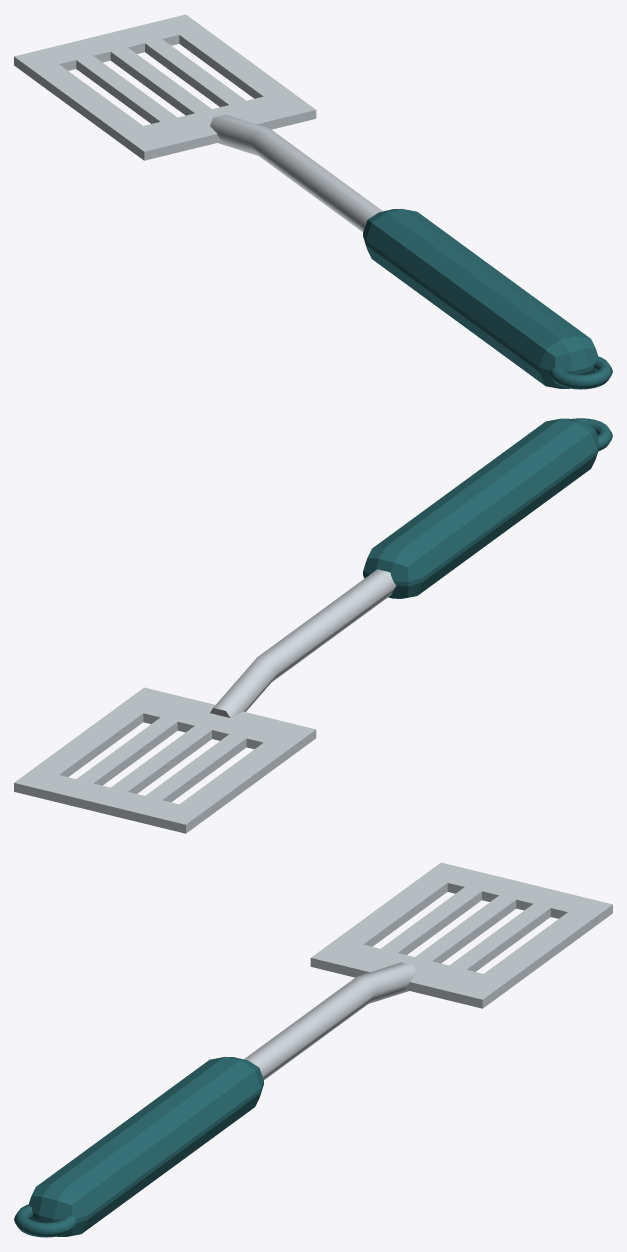
File: utensil_slotted_turner.glb
3 views of the same model, one above another, from view 1: azimuth 30°, elevation 25°; view 2: azimuth 150°, elevation 25°; view 3: azimuth 330°, elevation 25° (orthographic).
Visible parts, largest first — view 1: Slotted turner blade, Turner molded grip, Turner bent metal neck, Turner hanging loop; view 2: Slotted turner blade, Turner molded grip, Turner bent metal neck; view 3: Slotted turner blade, Turner molded grip, Turner bent metal neck, Turner hanging loop.
Boxes of the visible parts, x1,y1,x2,y2 form: Slotted turner blade: (14, 14, 316, 160); Turner molded grip: (363, 209, 598, 388); Turner bent metal neck: (210, 114, 382, 231); Turner hanging loop: (549, 356, 612, 389); Slotted turner blade: (14, 687, 316, 833); Turner molded grip: (363, 418, 598, 598); Turner bent metal neck: (210, 569, 395, 717); Slotted turner blade: (310, 862, 612, 1008); Turner molded grip: (28, 1057, 263, 1236); Turner bent metal neck: (244, 962, 416, 1079); Turner hanging loop: (14, 1204, 77, 1237).
Bounding box in the file's own units: 0.08 × 0.0251 × 0.4005.
